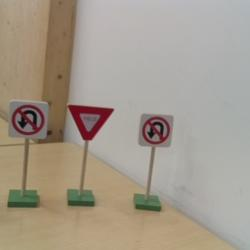no_u_turn: (9, 101, 48, 139), (138, 113, 175, 148)
yield: (67, 104, 114, 141)
